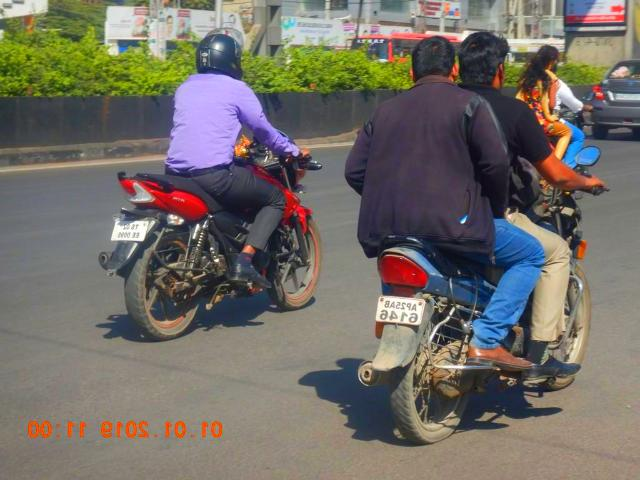helm: (195, 25, 248, 80)
motor: (356, 144, 607, 446), (95, 134, 326, 346)
non-helm: (456, 29, 511, 93), (411, 34, 460, 85), (532, 44, 562, 77)
